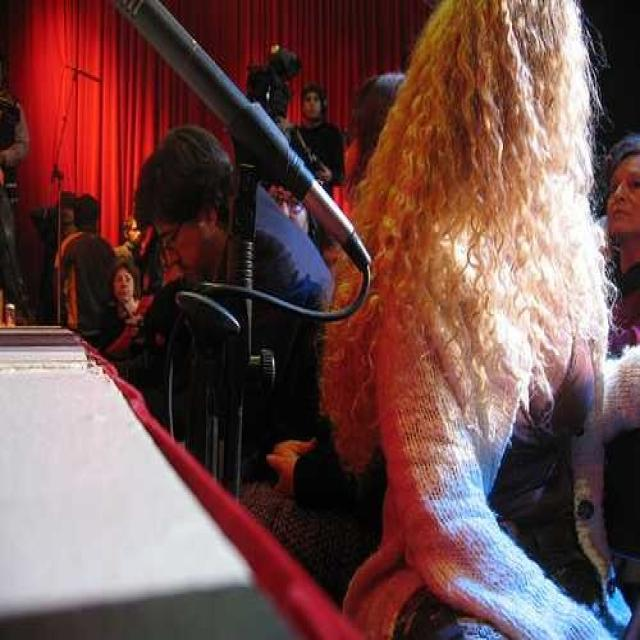microphone: (113, 1, 359, 277)
